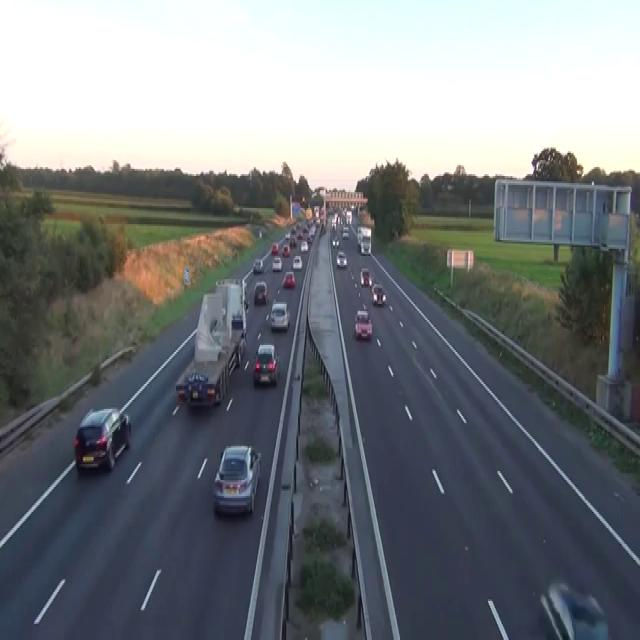Car: (539, 580, 610, 638), (73, 405, 131, 471), (212, 442, 261, 516), (186, 372, 221, 407), (214, 277, 249, 311), (252, 343, 279, 386), (270, 300, 290, 330), (354, 308, 372, 340), (175, 372, 188, 400), (371, 284, 386, 306), (253, 281, 267, 304), (231, 309, 243, 329), (282, 270, 295, 288), (360, 267, 370, 286), (336, 250, 347, 266), (252, 258, 263, 274), (271, 256, 282, 270), (292, 254, 302, 268), (360, 240, 370, 254), (356, 226, 362, 245), (282, 244, 290, 256), (300, 240, 308, 251), (271, 242, 278, 254), (243, 297, 249, 311), (331, 237, 339, 247), (242, 279, 247, 295), (342, 228, 349, 238), (289, 235, 296, 245), (320, 222, 326, 233), (233, 204, 240, 213), (331, 217, 336, 229), (301, 196, 306, 206), (290, 226, 296, 234), (284, 231, 290, 238), (302, 226, 308, 233), (297, 230, 302, 238), (315, 218, 320, 226), (258, 228, 262, 236)
Truck: (175, 277, 248, 407), (194, 278, 247, 364), (356, 226, 371, 254)
